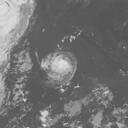cyclone: (40, 50, 79, 88)
